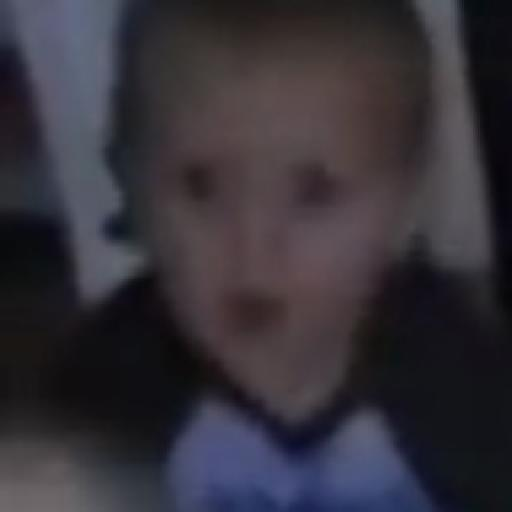Autism: (114, 22, 392, 421)
